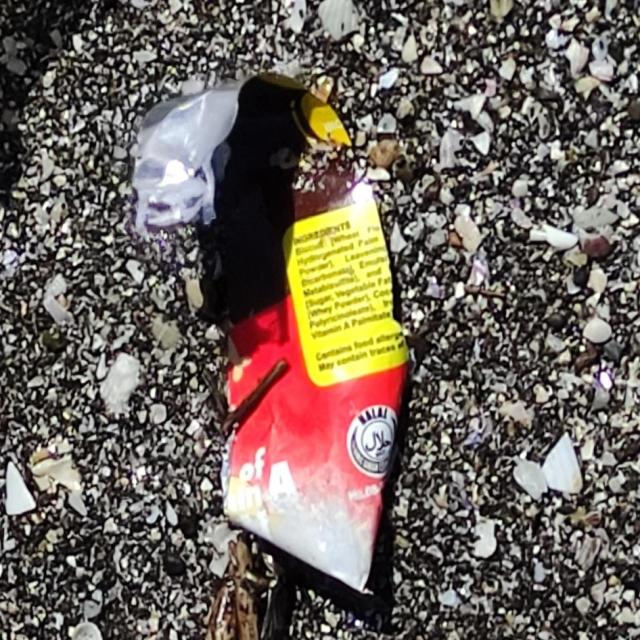plastic_waste: (131, 67, 417, 605)
